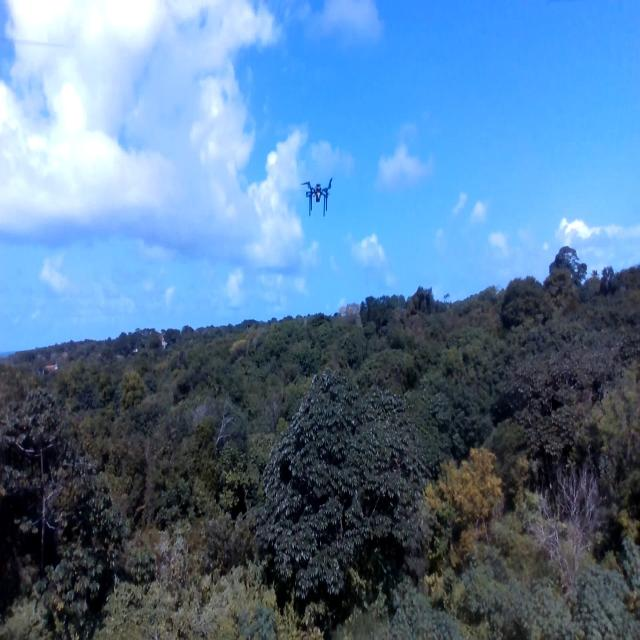-uav-: (293, 169, 336, 222)
